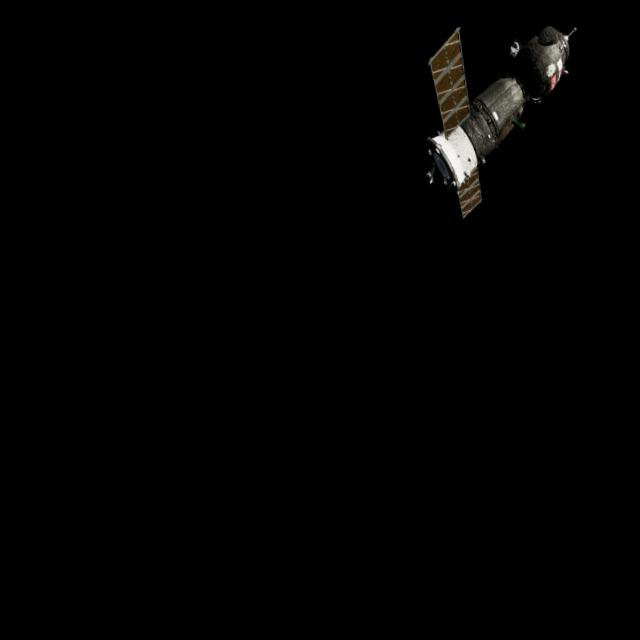Satellites revolving around earth: (413, 15, 588, 224)
